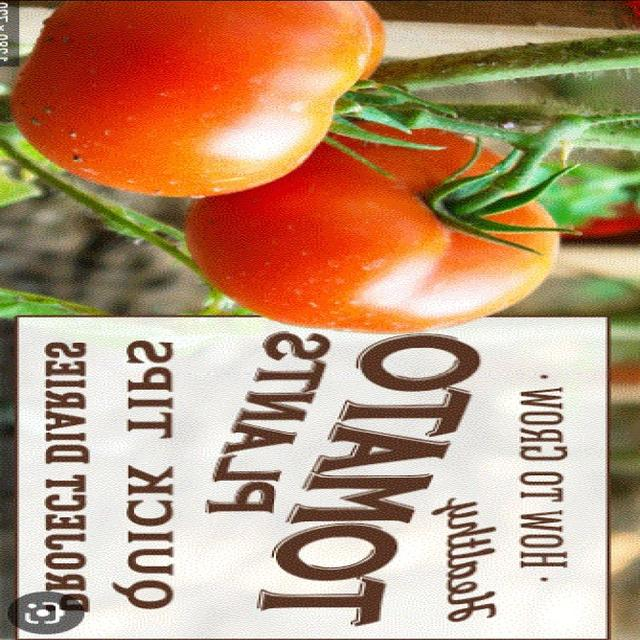Healthy Fruit: (138, 63, 272, 158)
